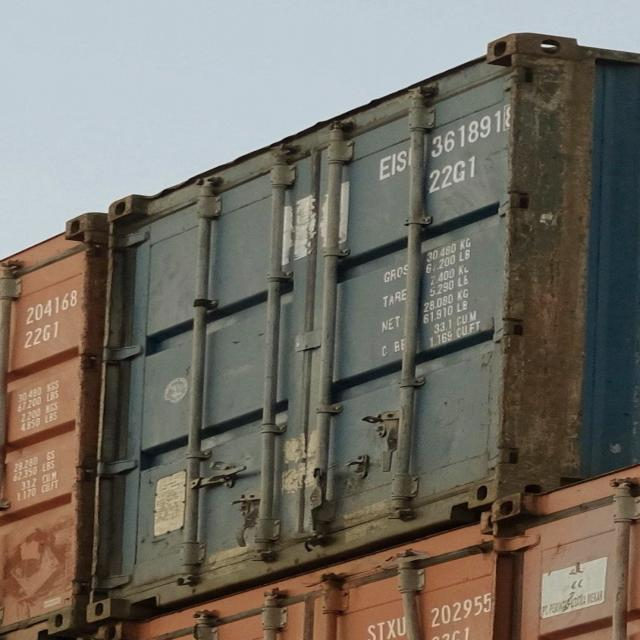ISO: (428, 160, 478, 189)
container_number: (376, 104, 518, 178)
